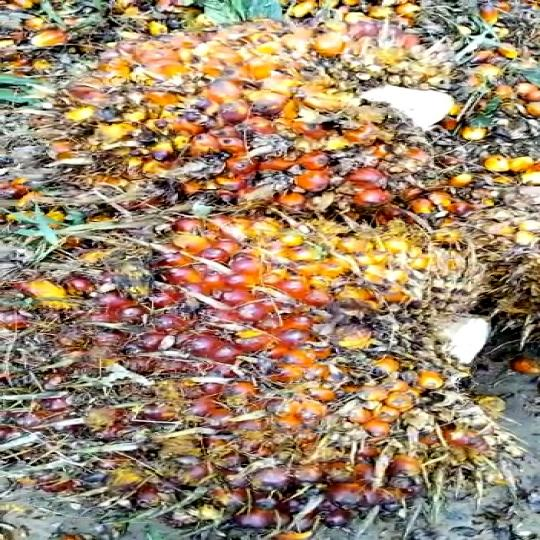masak: (0, 216, 540, 530), (0, 12, 540, 224)
